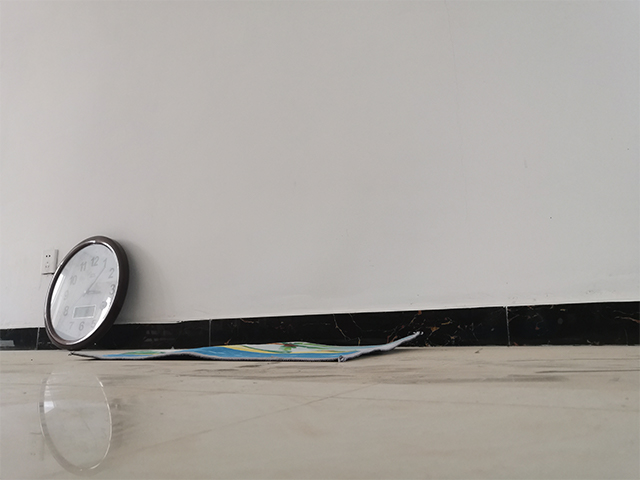carpet: (66, 327, 425, 364)
